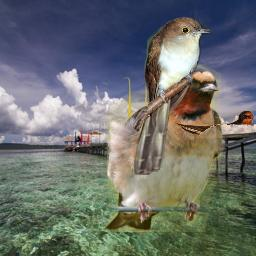Cuckoo: (134, 16, 211, 175)
Swallow: (103, 64, 226, 232), (177, 110, 254, 138)
